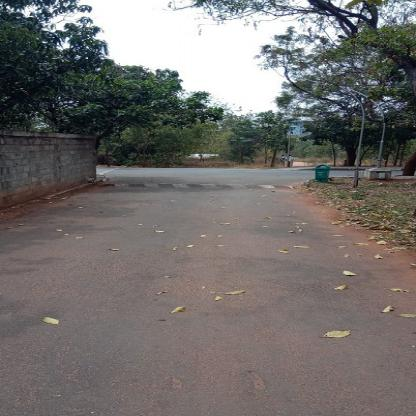speed-bumps: (80, 174, 320, 192)
